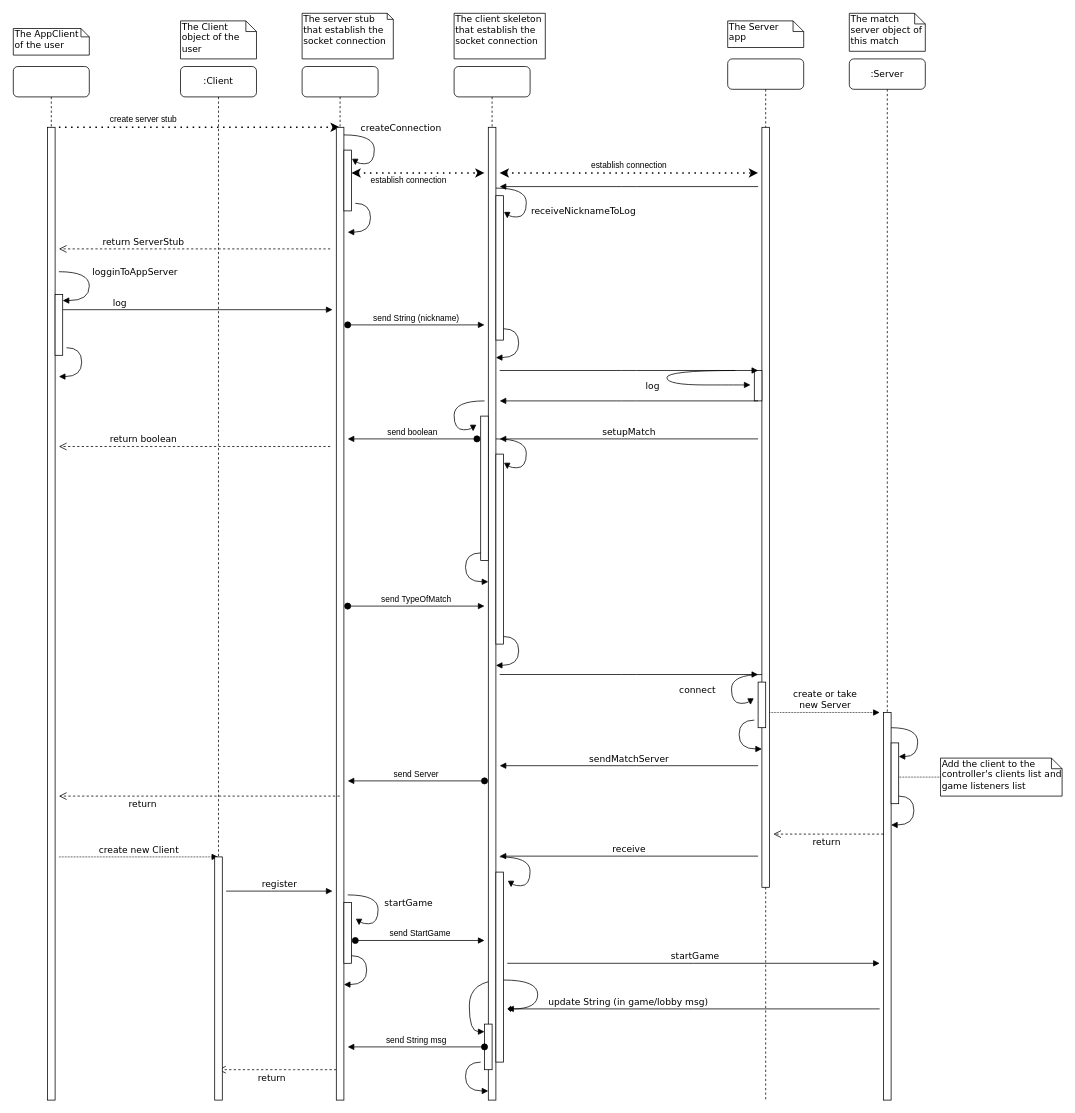
The diagram is 1075 pixels wide and 1113 high, and some of its shapes have lost their labels. Here are the shapes that lost their labels. From the top down, the box of each, then its label:
(13, 66, 89, 1100): :AppClientRMI
(301, 66, 378, 1100): :ServerStub
(453, 66, 530, 1100): :ClientSkeleton
(727, 58, 804, 1100): :AppServer
